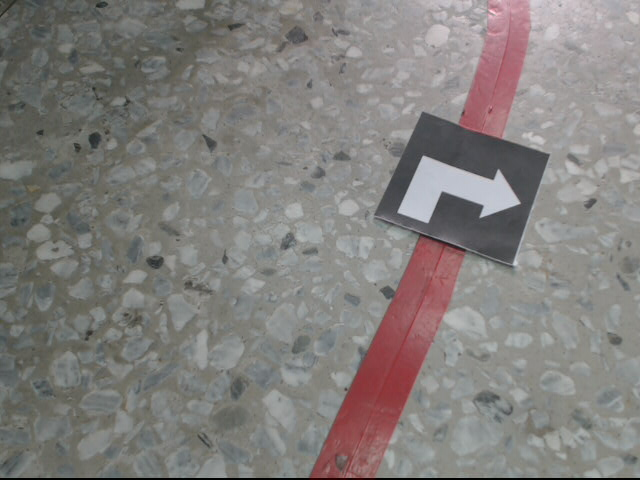right: (373, 110, 549, 267)
